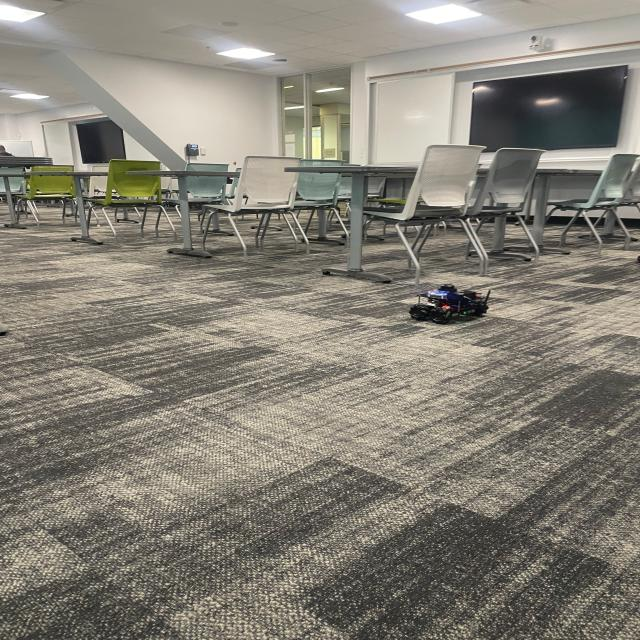ArduinoCar: (404, 279, 498, 327)
